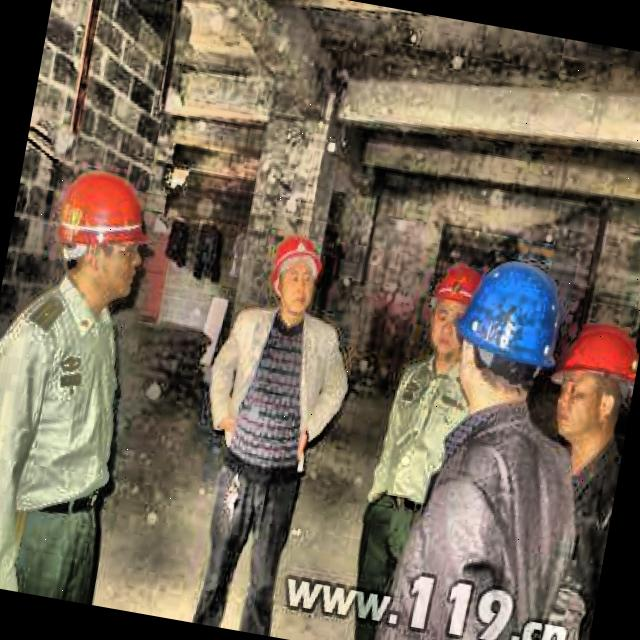helmet: (447, 256, 570, 420), (42, 160, 160, 309), (536, 311, 640, 446), (415, 262, 485, 362), (260, 226, 328, 322)
